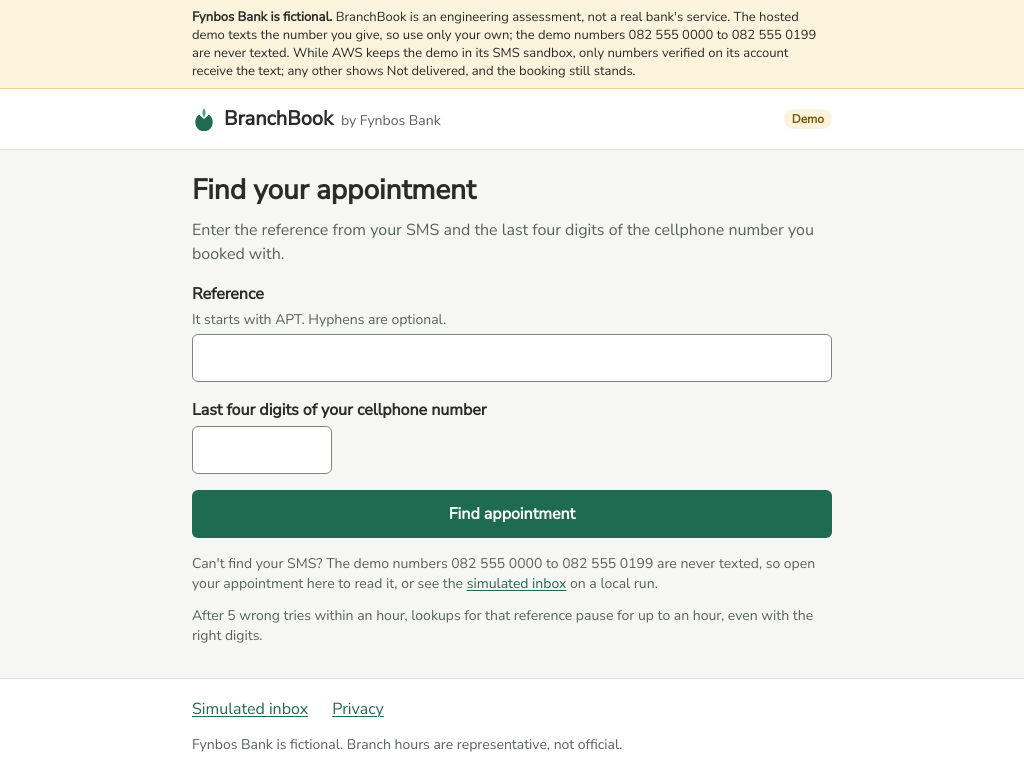
Test case: ManagePage › gives the same answer for a wrong reference
Type "APT-2222-3333" into the field labelled "Reference" at (512, 358), box [192,334,832,382]
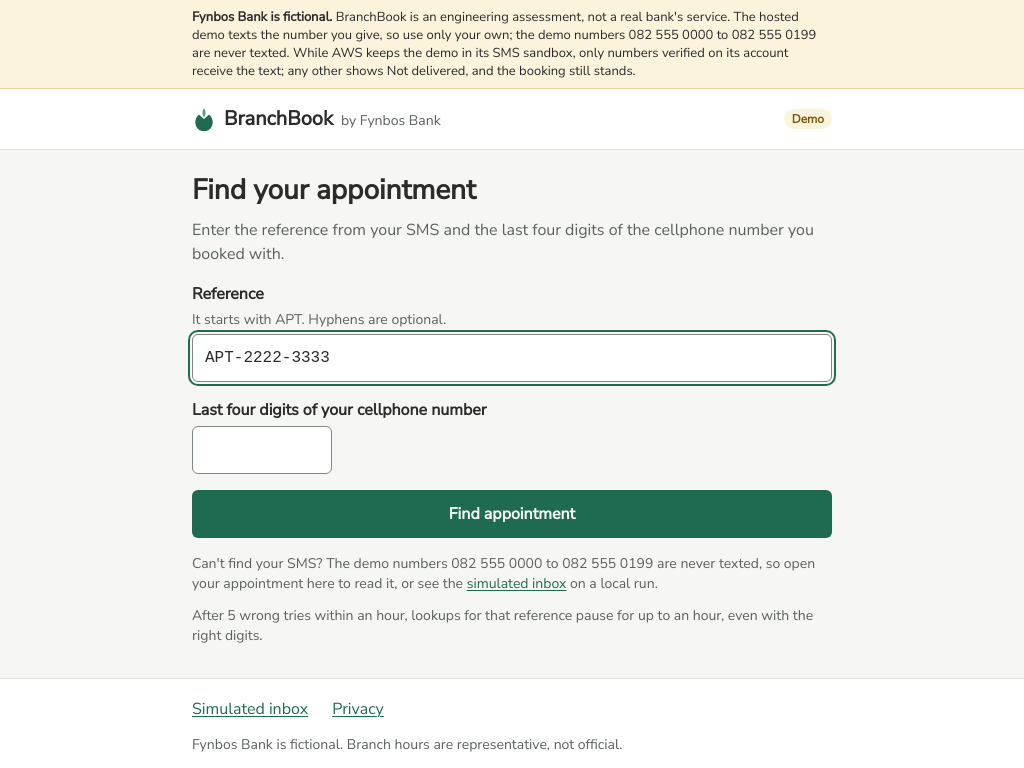
Type "0101" into the field labelled "Last four digits of your cellphone number" at (262, 450), box [192,426,332,474]
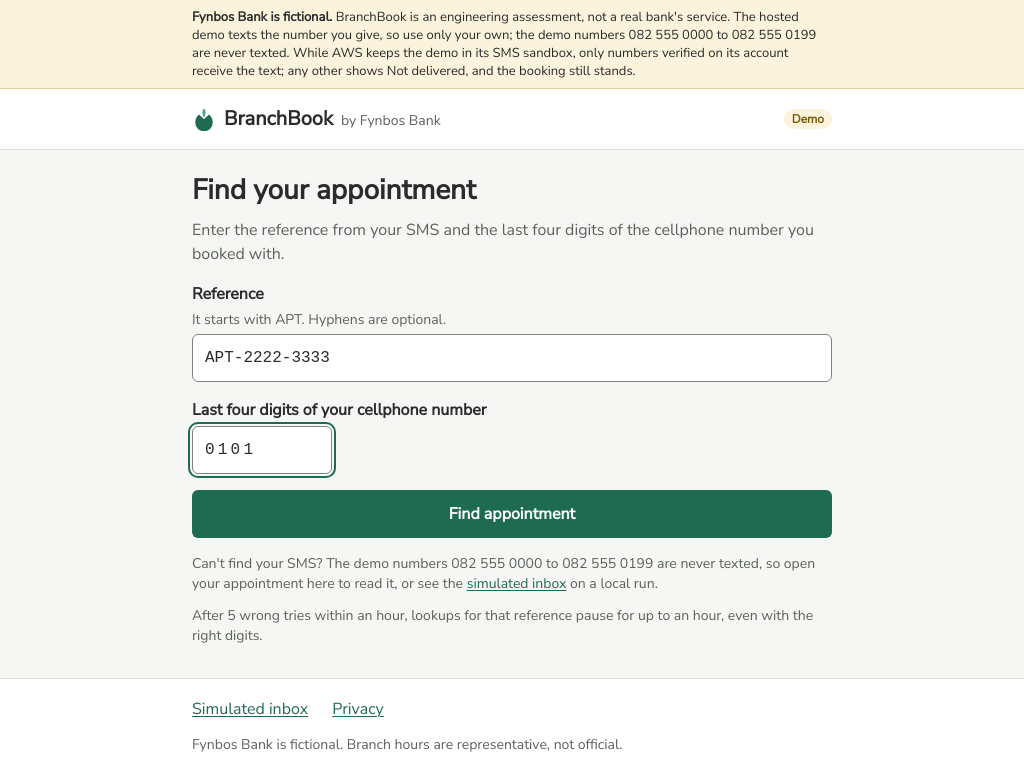
Click the button "Find appointment" at (512, 514), box [192,490,832,538]
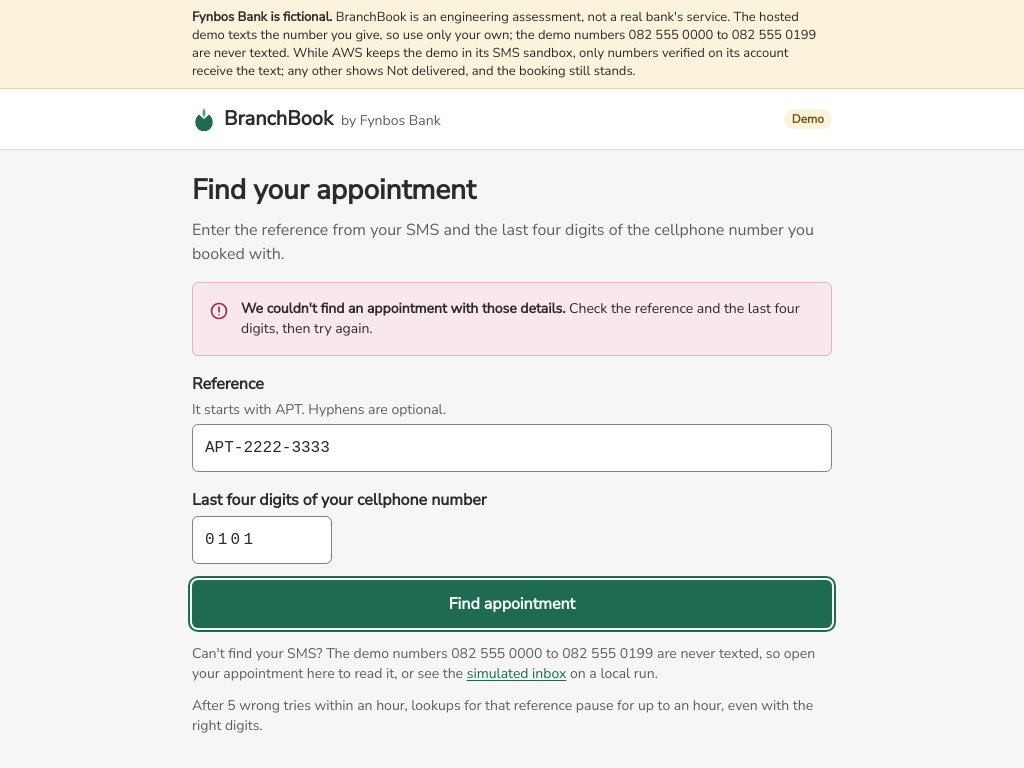
Expected: the message shows "We couldn't find an appointment with those details. Check the reference and the last four digits, then try again.", [192,282,832,356]
